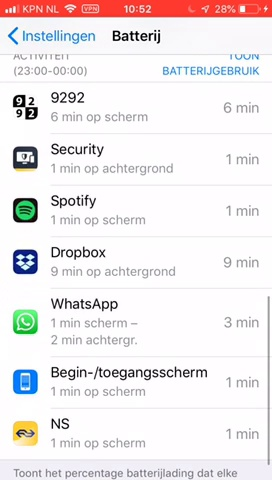app: (2, 293, 265, 350), (6, 87, 268, 129), (6, 137, 268, 179), (4, 187, 266, 229), (4, 240, 266, 282), (2, 360, 264, 402), (3, 412, 265, 454)
